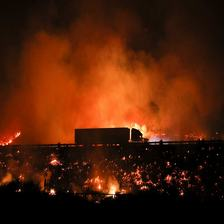fire: (5, 159, 167, 203), (113, 113, 170, 141), (1, 124, 26, 144)
